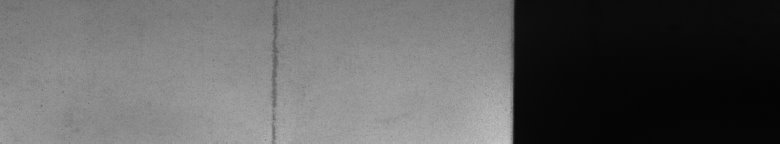hd: (268, 4, 281, 136)
